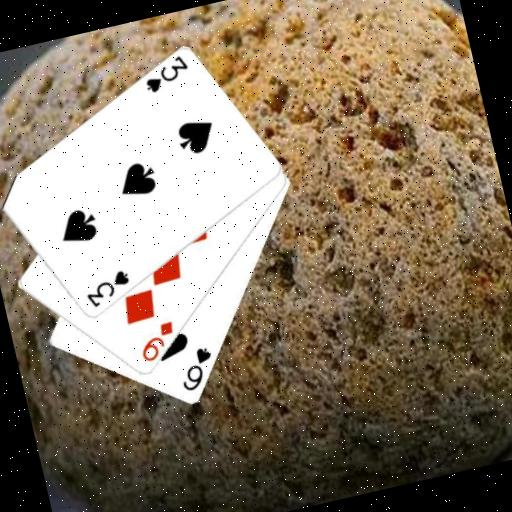3S: (79, 266, 136, 312), (138, 52, 195, 97)
6S: (172, 343, 221, 396)
9D: (132, 318, 181, 366)
